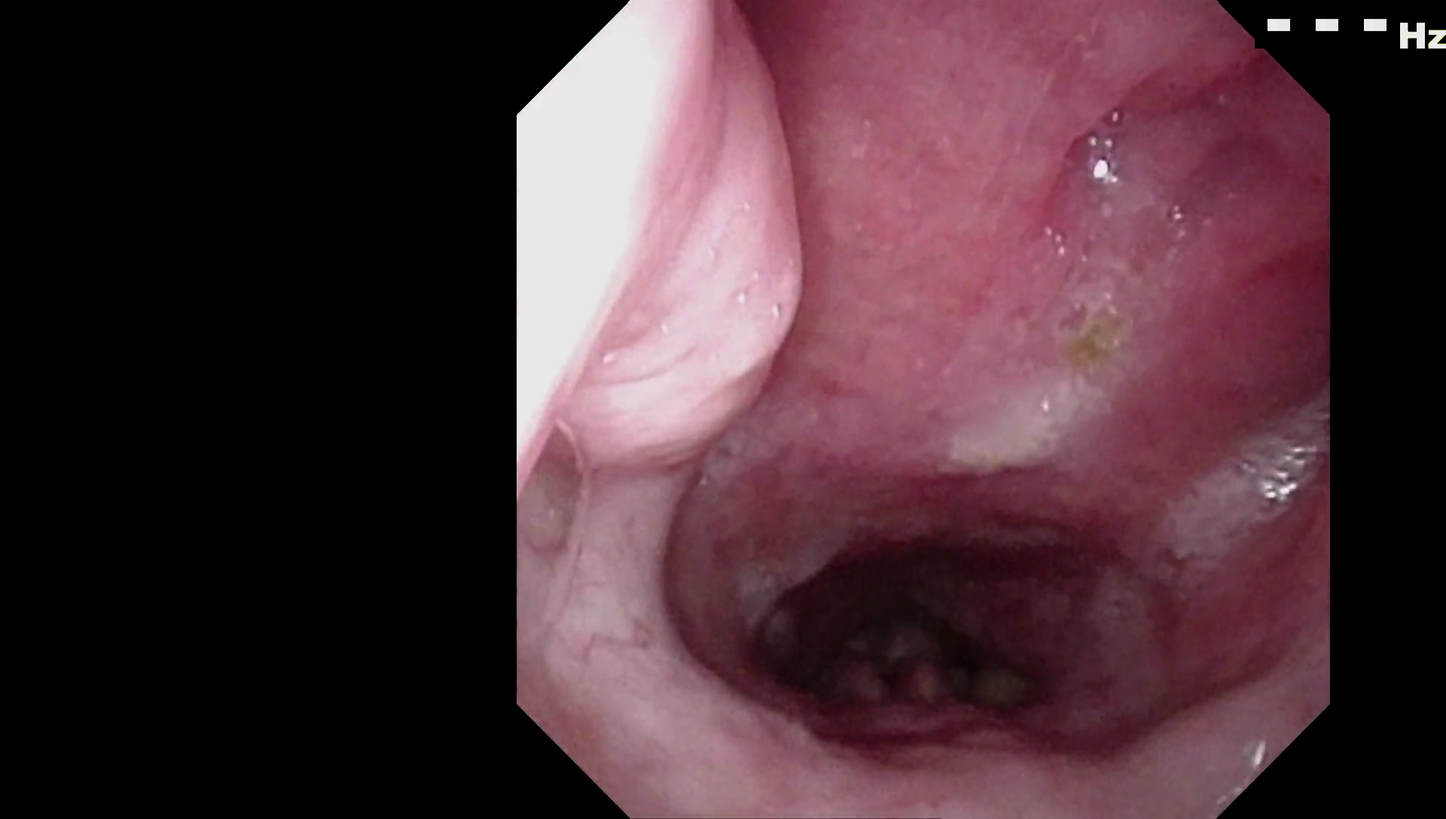close_wall: (538, 96, 739, 513)
next: (757, 519, 1037, 720)
